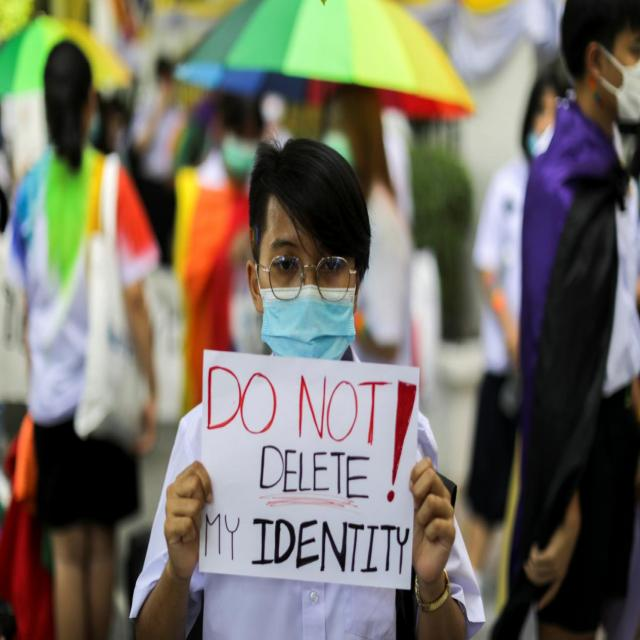Glasses: (253, 248, 361, 306)
